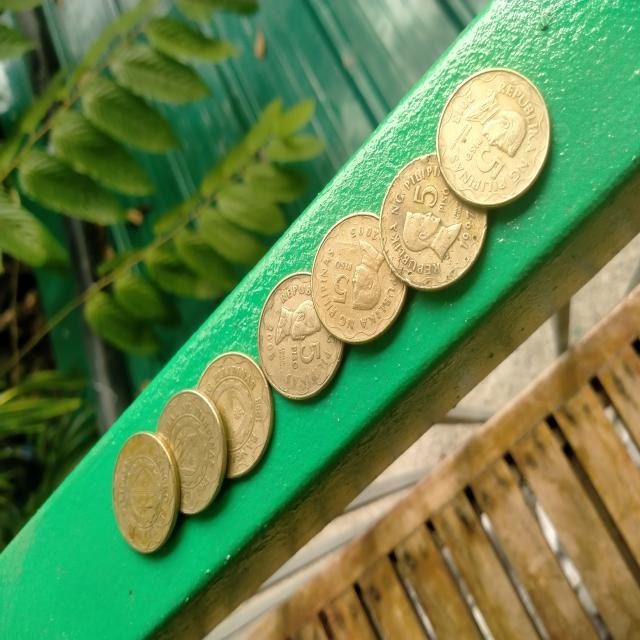5_Old_Back: (100, 441, 186, 542), (200, 356, 272, 467), (162, 397, 222, 499)
5_Old_Front: (438, 79, 549, 205), (317, 220, 403, 346), (392, 160, 482, 279), (256, 290, 330, 393)
